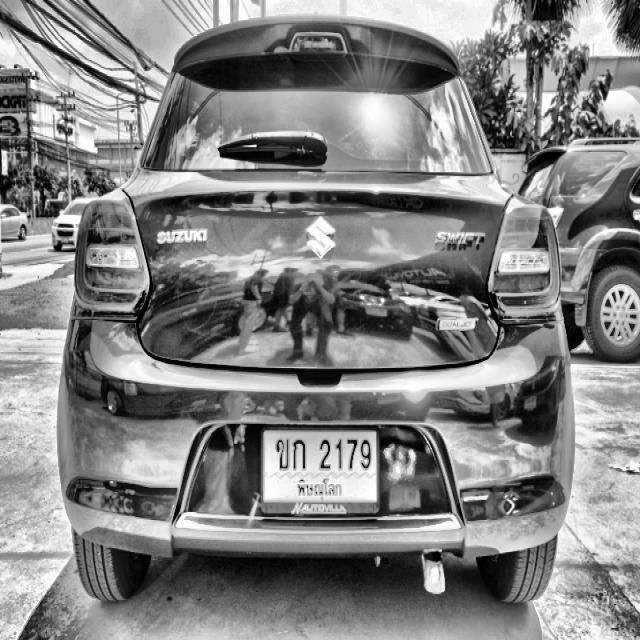license-plate: (262, 426, 380, 517)
